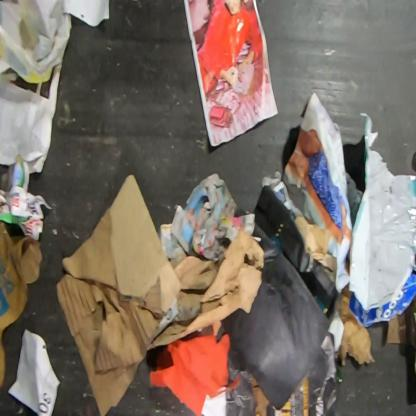cardboard: (54, 174, 264, 416), (0, 220, 44, 390), (336, 287, 376, 368)
soft_plastic: (349, 111, 415, 312), (0, 0, 72, 84)
